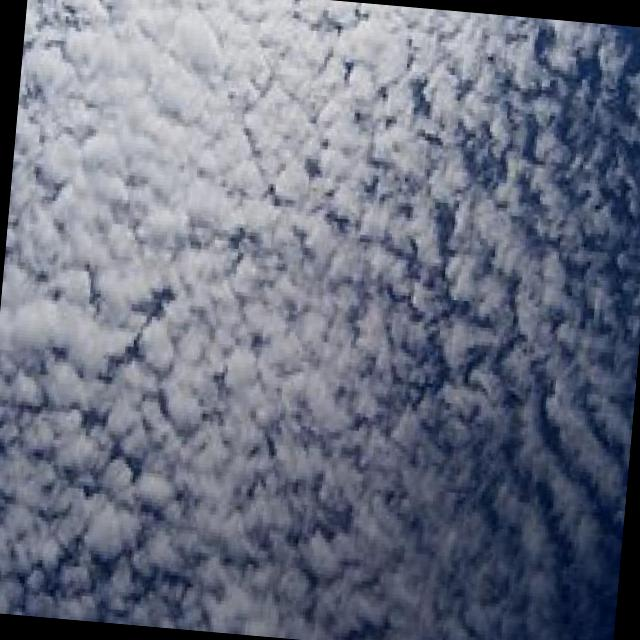altocumulus: (0, 16, 640, 626)
